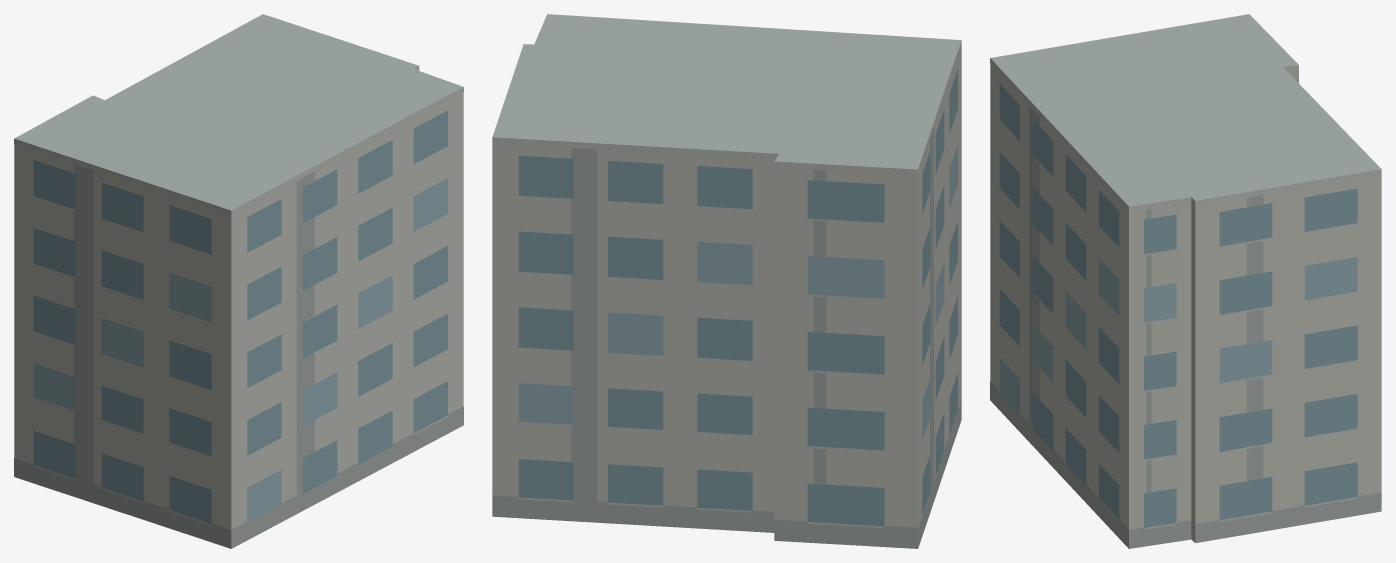
Rendered from survey-upis-32859748.glb.
3 views of the same model, side by side, from view 1: azimuth 30°, elevation 25°; view 2: azimuth 150°, elevation 25°; view 3: azimuth 270°, elevation 25° (orthographic). The views are drawn at different scales.
Parts seen in each view (by area): view 1: survey-upis-32859748.tmp; view 2: survey-upis-32859748.tmp; view 3: survey-upis-32859748.tmp.
Boxes of the visible parts, x1,y1,x2,y2 form: survey-upis-32859748.tmp: [14, 14, 463, 548]; survey-upis-32859748.tmp: [492, 14, 961, 548]; survey-upis-32859748.tmp: [990, 14, 1381, 548].
Bounding box in the file's own units: 18.41 × 15.25 × 15.82.
